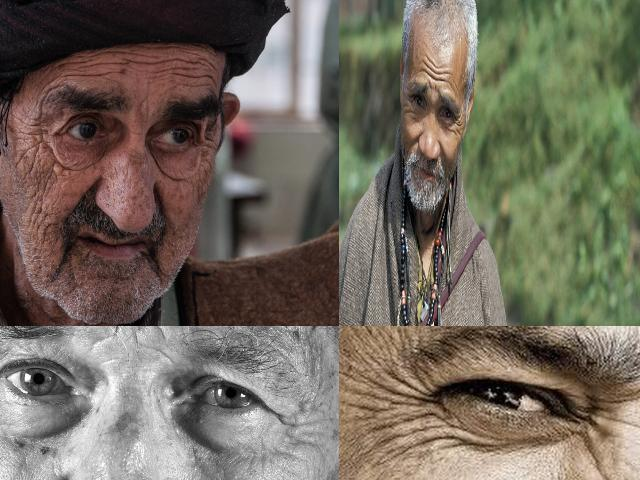crows_feet: (368, 372, 437, 442), (29, 115, 59, 156), (270, 406, 306, 438), (194, 131, 216, 166), (404, 94, 412, 117), (455, 114, 462, 134)
forehead: (120, 48, 166, 73), (172, 52, 210, 82), (64, 56, 108, 78), (422, 52, 452, 81)
frown_line: (146, 326, 174, 343), (108, 326, 125, 340), (428, 81, 439, 95)
gummy_smile: (70, 178, 98, 212), (437, 137, 446, 160), (410, 131, 420, 146)
masseter: (26, 177, 48, 225), (11, 141, 29, 175)
